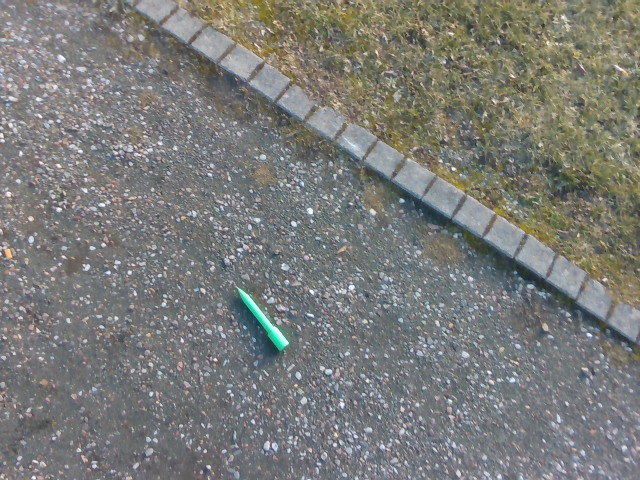Probe: (234, 282, 294, 355)
